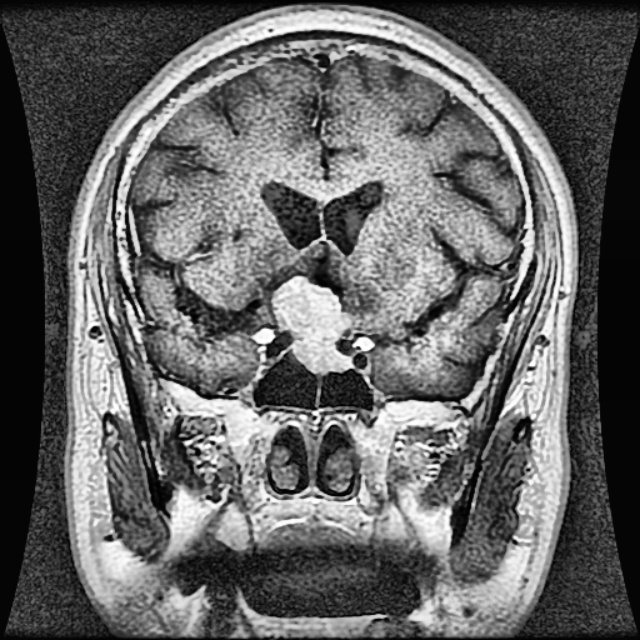Pituitary: (275, 278, 345, 369)
